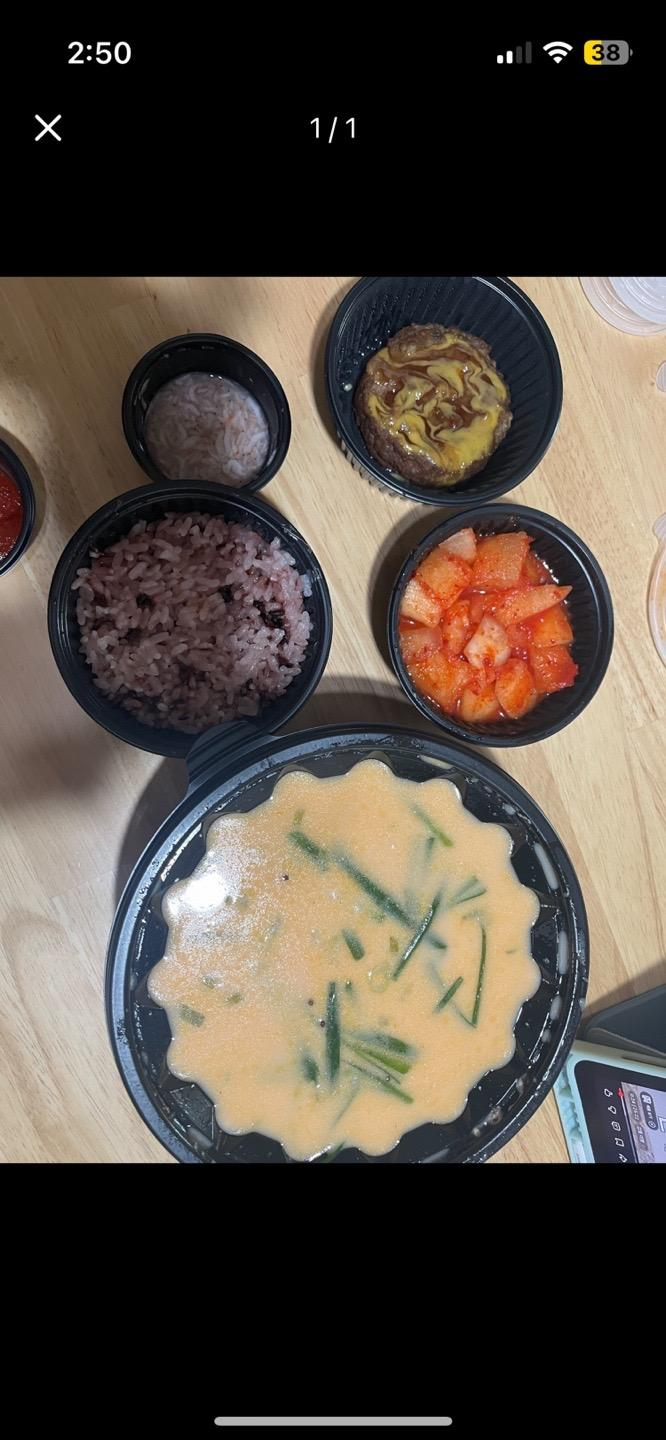Lunch Box: (105, 720, 588, 1163), (47, 481, 331, 757), (325, 277, 561, 508), (388, 505, 613, 747)
cup: (122, 334, 290, 491), (580, 277, 665, 335), (0, 439, 35, 576)
